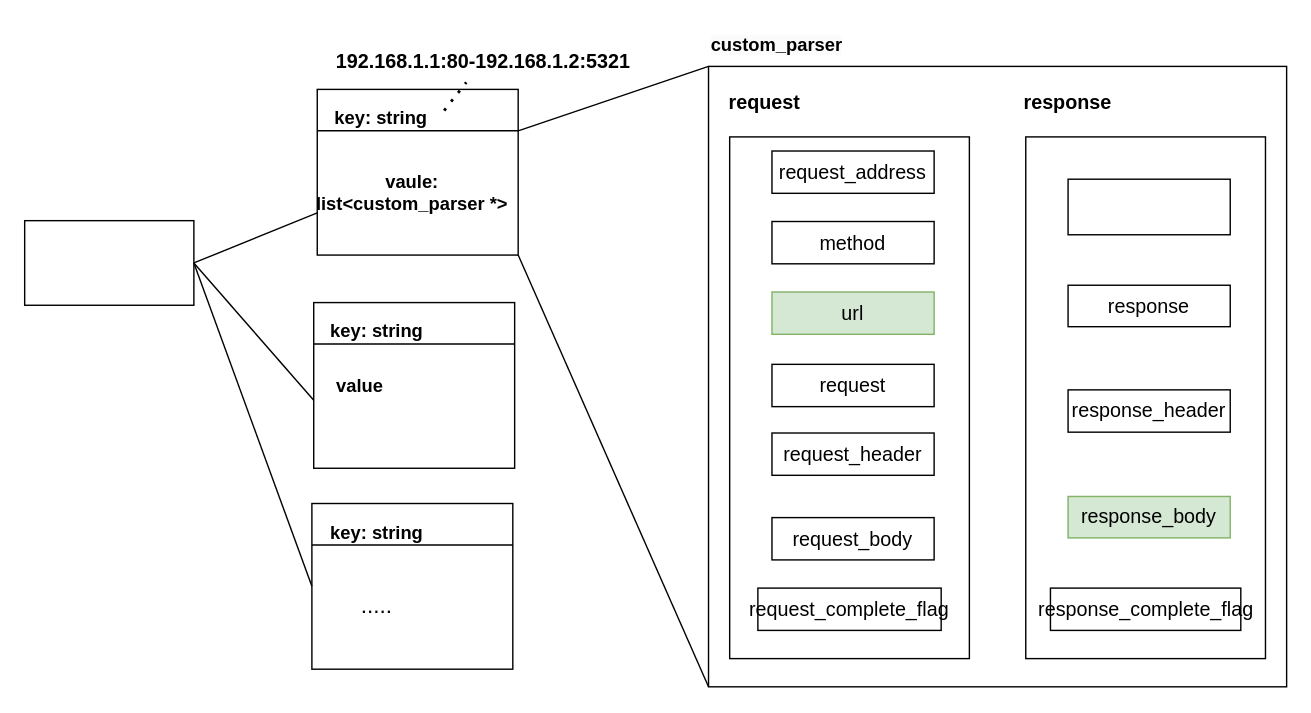
The diagram is 1311 pixels wide and 713 high, and some of its shapes have lost their labels. The shapes that lost their labels are listed below. From the top down, each one's centre as x and y in pixels, then its label:
point (1148, 206): response_address
point (108, 262): http_requests
